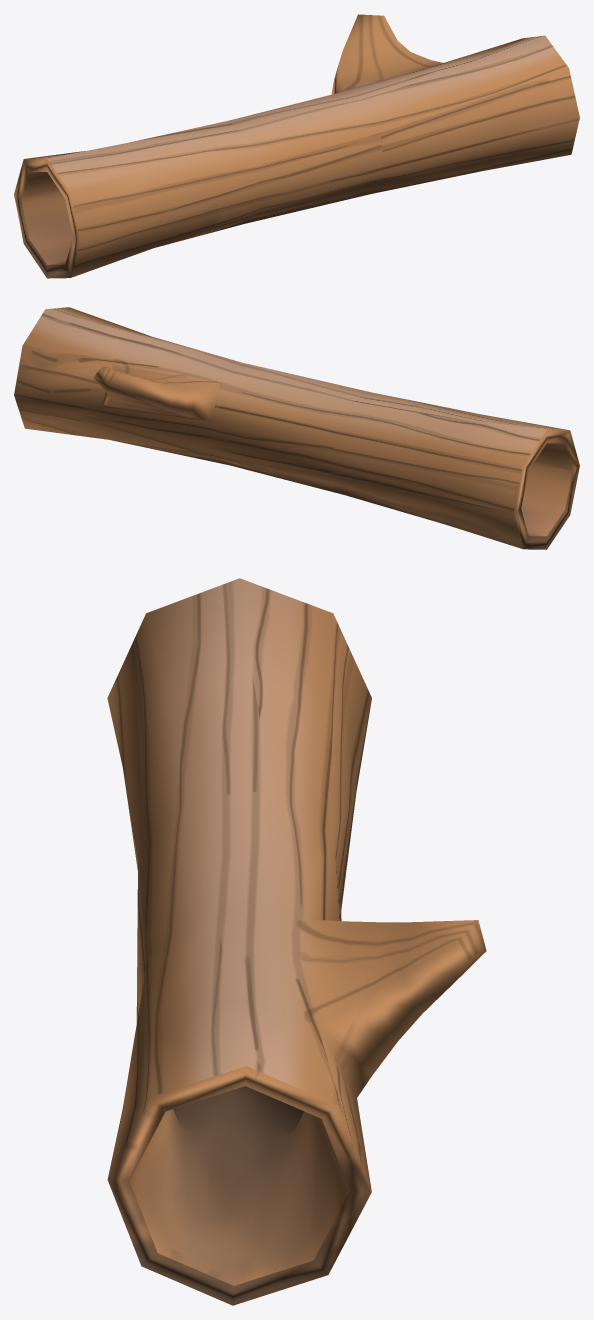
File: log.fbx
3 renders of one model, top to bottom at view 1: azimuth 30°, elevation 25°; view 2: azimuth 150°, elevation 25°; view 3: azimuth 270°, elevation 25°, orthographic. The views are drawn at different scales.
Parts seen in each view (by area): view 1: Cylinder.001; view 2: Cylinder.001; view 3: Cylinder.001.
Boxes of the visible parts, x1,y1,x2,y2 form: Cylinder.001: (14, 14, 579, 278); Cylinder.001: (14, 307, 579, 549); Cylinder.001: (107, 578, 486, 1305).
Bounding box in the file's own units: 678 × 168 × 223.
1 material, 1 textured.
